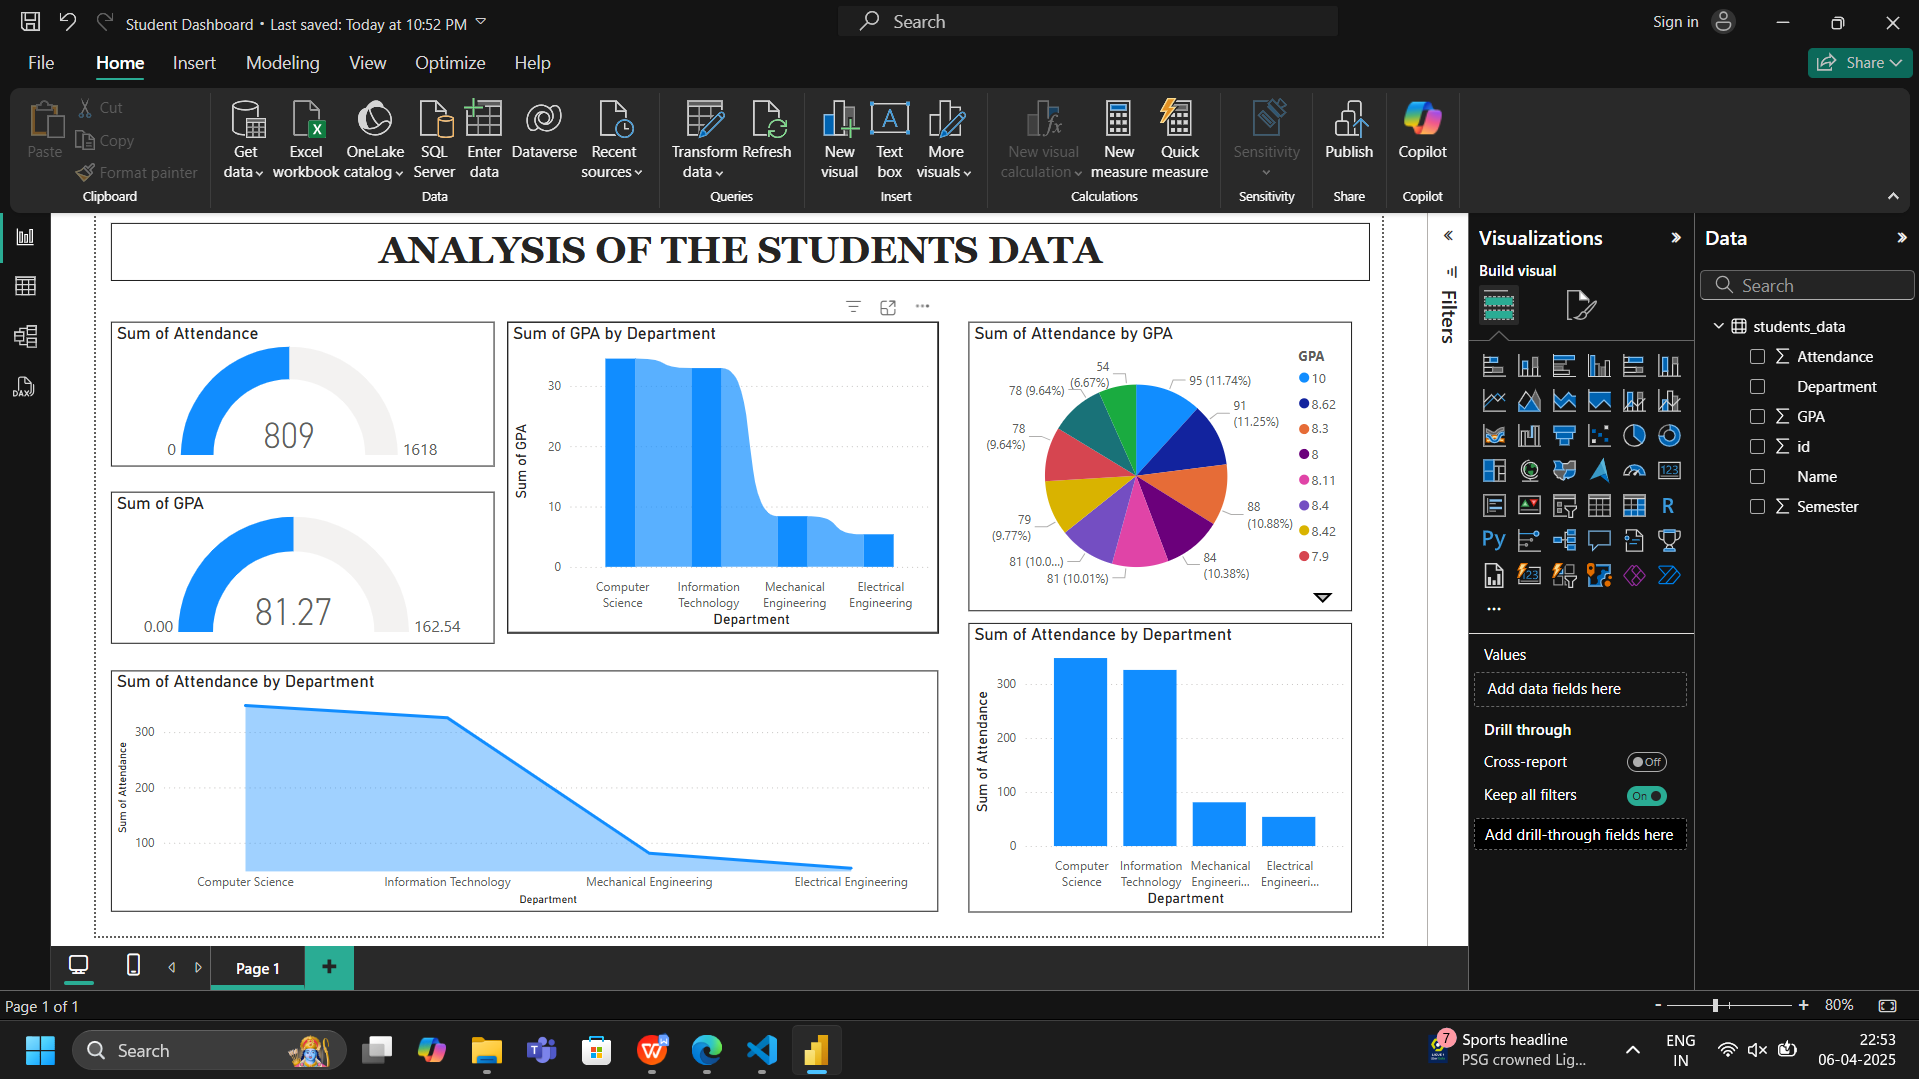

Layout of this report page (visuals, bound fields, positions):
{"tool":"powerbi","page":{"name":"Page 1","canvas":[1280,720],"ordinal":0},"visuals":[{"type":"columnChart","fields":{"Category":["students_data.Department"],"Y":["Sum(students_data.Attendance)"]},"box":[868.6,407.5,381.5,288.2],"z":0},{"type":"textbox","box":[15.1,9.6,1252.8,57.6],"z":1000},{"type":"ribbonChart","fields":{"Category":["students_data.Department"],"Y":["Sum(students_data.GPA)"]},"box":[408.9,108.4,429.5,310.1],"z":2000},{"type":"pieChart","fields":{"Y":["Sum(students_data.Attendance)"],"Category":["students_data.GPA"]},"box":[868.6,108.4,381.5,288.2],"z":3000},{"type":"gauge","fields":{"Y":["Sum(students_data.Attendance)"]},"box":[15.1,108.4,381.5,144.1],"z":4000},{"type":"gauge","fields":{"Y":["Sum(students_data.GPA)"]},"box":[15.1,277.2,381.5,150.9],"z":5000},{"type":"stackedAreaChart","fields":{"Category":["students_data.Department"],"Y":["Sum(students_data.Attendance)"]},"box":[15.1,455.6,823.3,240.1],"z":6000}]}

Visuals, with their boxes on the page's 1280x720 design canvas (x1, y1, x2, y2). These are canvas units, not pixel positions in the 1919x1079 screenshot, which may show the page scaled, cropped or inside an application window:
columnChart - students_data.Department x Sum(students_data.Attendance): <box>869,408,1250,696</box>
textbox: <box>15,10,1268,67</box>
ribbonChart - students_data.Department x Sum(students_data.GPA): <box>409,108,838,418</box>
pieChart - Sum(students_data.Attendance) x students_data.GPA: <box>869,108,1250,397</box>
gauge - Sum(students_data.Attendance): <box>15,108,397,252</box>
gauge - Sum(students_data.GPA): <box>15,277,397,428</box>
stackedAreaChart - students_data.Department x Sum(students_data.Attendance): <box>15,456,838,696</box>
